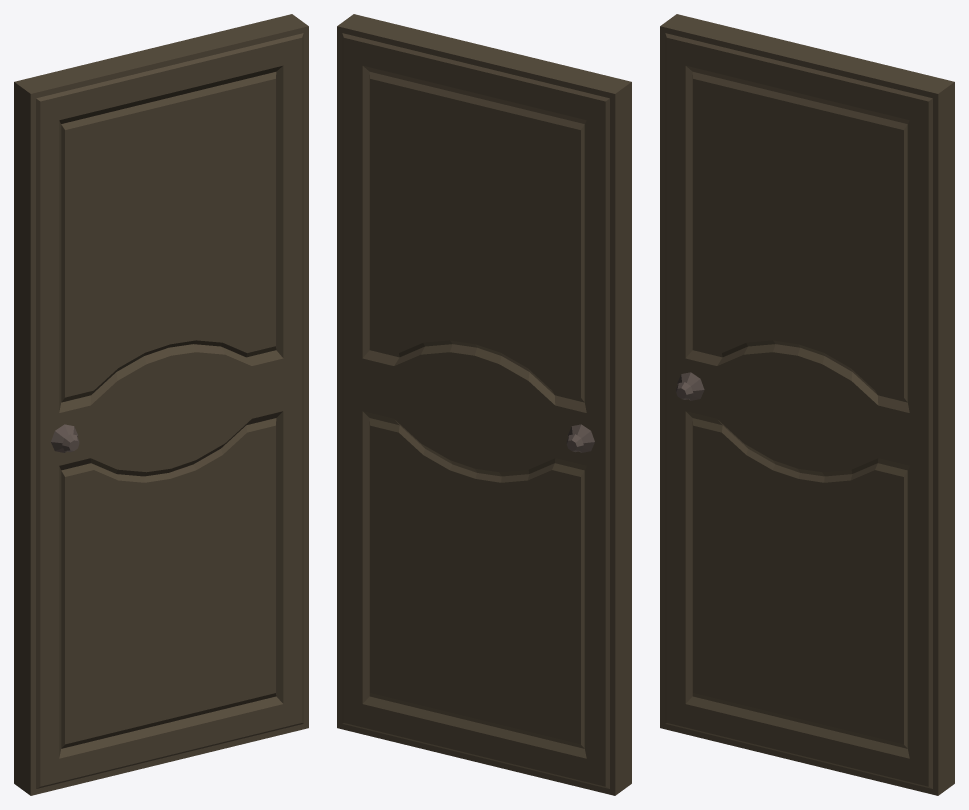
Rendered from Door-atrxVW0q9N.glb.
3 views of the same model, side by side, from view 1: azimuth 30°, elevation 25°; view 2: azimuth 150°, elevation 25°; view 3: azimuth 330°, elevation 25° (orthographic).
Visible parts, largest first — view 1: Door-atrxVW0q9N; view 2: Door-atrxVW0q9N; view 3: Door-atrxVW0q9N.
Part boxes in pixels (left/top/right/bottom): Door-atrxVW0q9N: left=14, top=14, right=308, bottom=795; Door-atrxVW0q9N: left=337, top=14, right=631, bottom=795; Door-atrxVW0q9N: left=660, top=14, right=954, bottom=795.
Bounding box in the file's own units: 0.522 × 1.26 × 0.1263.
